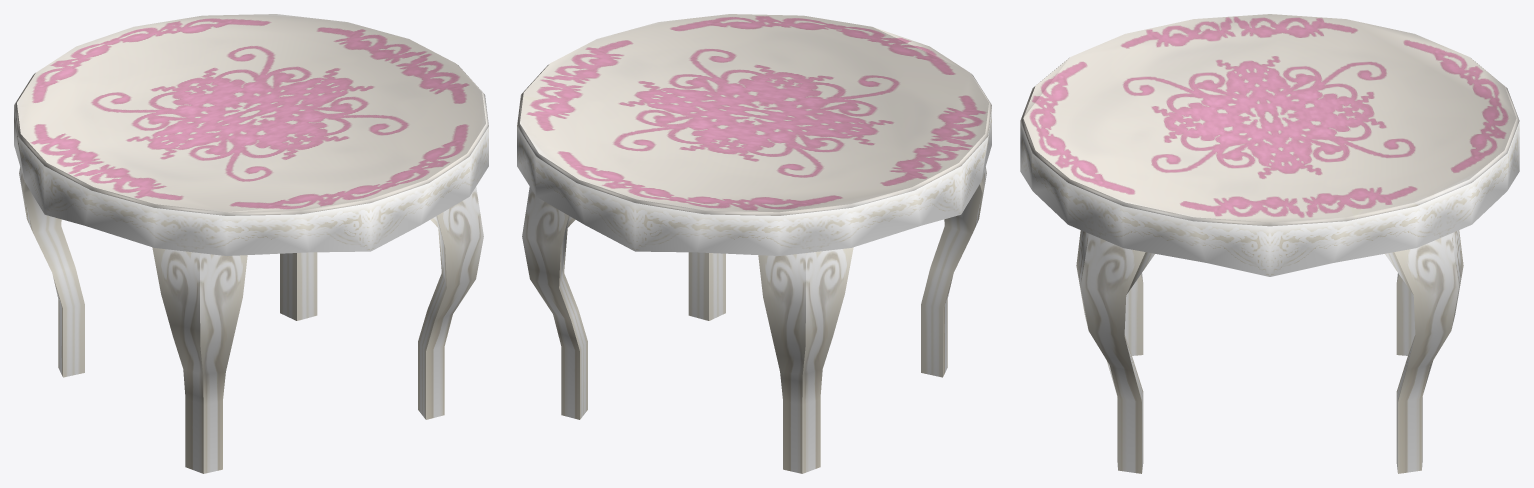
File: RococoRoundTable_HD.fbx
The picture shows the model from 3 angles, left to right: view 1: azimuth 30°, elevation 25°; view 2: azimuth 150°, elevation 25°; view 3: azimuth 270°, elevation 25°; orthographic projection. The views are drawn at different scales.
Visible parts, largest first — view 1: RococoRoundTable; view 2: RococoRoundTable; view 3: RococoRoundTable.
Boxes of the visible parts, x1=… form: RococoRoundTable: x1=14, y1=14, x2=488, y2=473; RococoRoundTable: x1=517, y1=14, x2=991, y2=473; RococoRoundTable: x1=1020, y1=14, x2=1519, y2=473.
Bounding box in the file's own units: 0.941 × 0.6049 × 0.941.
